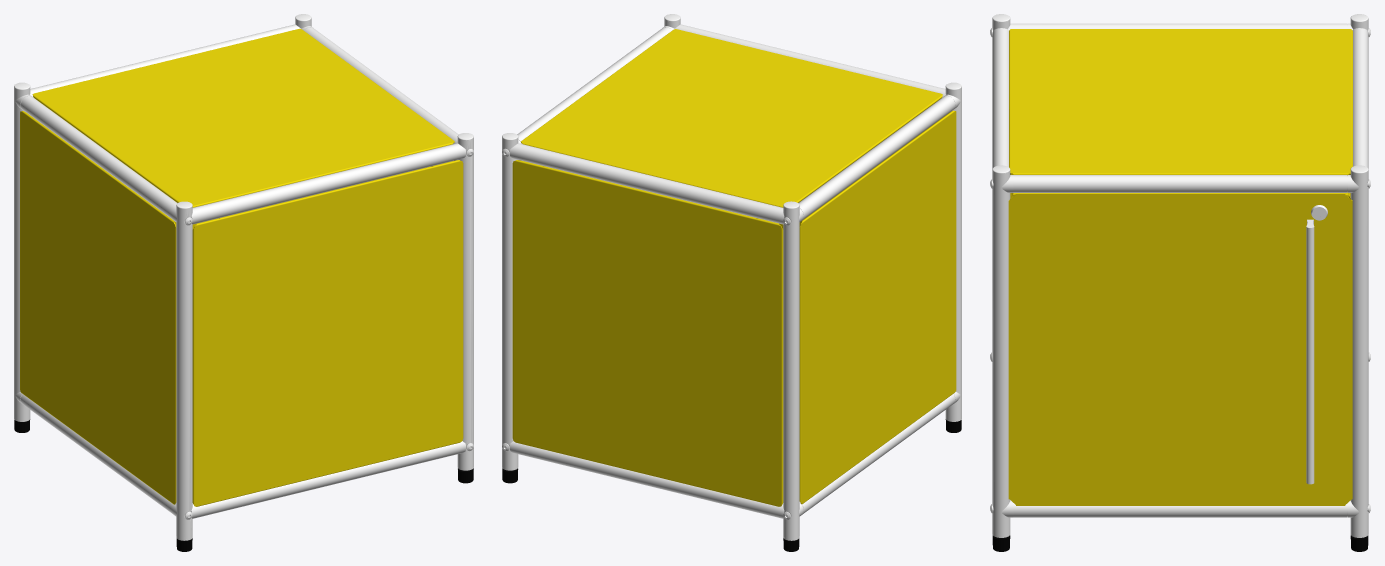
The model's file is 40x40x40-2-6-yellow_optimized_optimized.glb.
3 views of the same model, side by side, from view 1: azimuth 30°, elevation 25°; view 2: azimuth 150°, elevation 25°; view 3: azimuth 270°, elevation 25° (orthographic). The views are drawn at different scales.
Visible parts, largest first — view 1: 直角鐵板-40x40-5 - 零件, 反-鐵管-40-354..4-1 - 零件, 圓形腳+調整器-1 - 零件; view 2: 直角鐵板-40x40-5 - 零件, 反-鐵管-40-354..4-1 - 零件, 圓形腳+調整器-1 - 零件; view 3: 直角鐵板-40x40-5 - 零件, 反-鐵管-40-354..4-1 - 零件, 圓形腳+調整器-1 - 零件.
Boxes of the visible parts, box(x1,y1,x2,y2) form: 直角鐵板-40x40-5 - 零件: box(20, 28, 463, 506); 反-鐵管-40-354..4-1 - 零件: box(14, 14, 473, 540); 圓形腳+調整器-1 - 零件: box(14, 419, 473, 551); 直角鐵板-40x40-5 - 零件: box(512, 29, 956, 506); 反-鐵管-40-354..4-1 - 零件: box(502, 14, 961, 540); 圓形腳+調整器-1 - 零件: box(502, 419, 961, 551); 直角鐵板-40x40-5 - 零件: box(1008, 29, 1352, 505); 反-鐵管-40-354..4-1 - 零件: box(990, 14, 1370, 537); 圓形腳+調整器-1 - 零件: box(992, 535, 1368, 551).
Size of the model in its own units: 0.4203 by 0.4453 by 0.4035.
